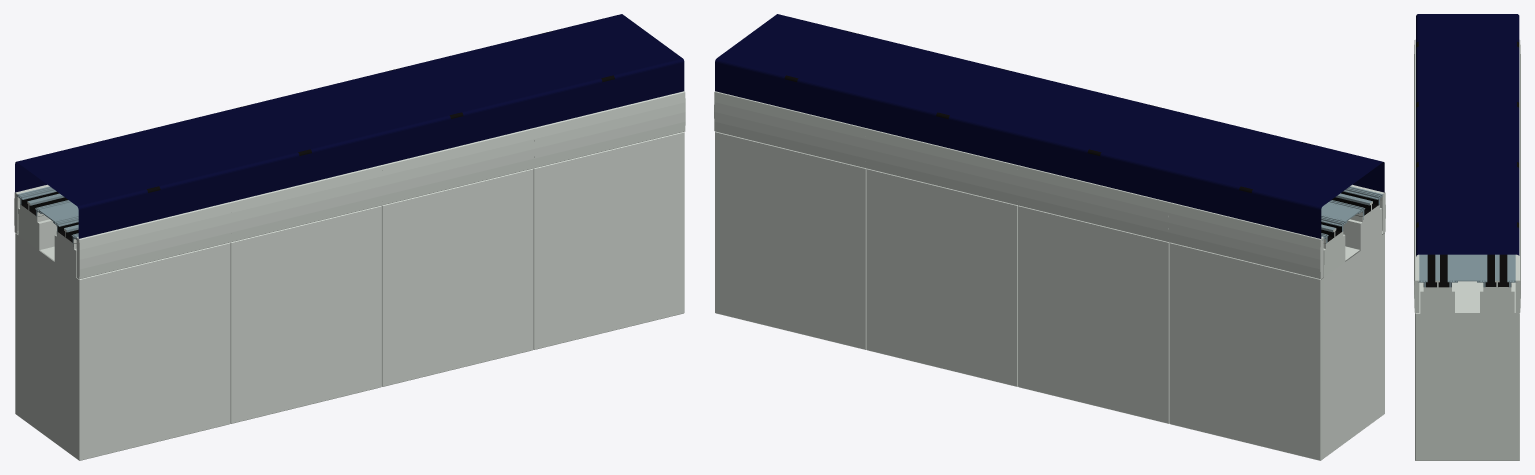
File: Automation Track x2.obj
3 views of the same model, side by side, from view 1: azimuth 30°, elevation 25°; view 2: azimuth 150°, elevation 25°; view 3: azimuth 270°, elevation 25° (orthographic). The views are drawn at different scales.
Visible parts, largest first — view 1: object1, object4, object2; view 2: object1, object4, object2; view 3: object4, object1, object2, object3, object5.
Part boxes in pixels (x1,y1,x2,y2): object1: [14, 91, 685, 460]; object4: [15, 14, 684, 238]; object2: [16, 186, 78, 246]; object1: [714, 91, 1385, 460]; object4: [715, 14, 1384, 238]; object2: [1321, 186, 1383, 243]; object4: [1416, 14, 1519, 256]; object1: [1414, 39, 1520, 460]; object2: [1418, 254, 1516, 287]; object3: [1423, 254, 1511, 287]; object5: [1416, 41, 1519, 228].
Size of the model in its own units: 106 by 42.31 by 19.83.
